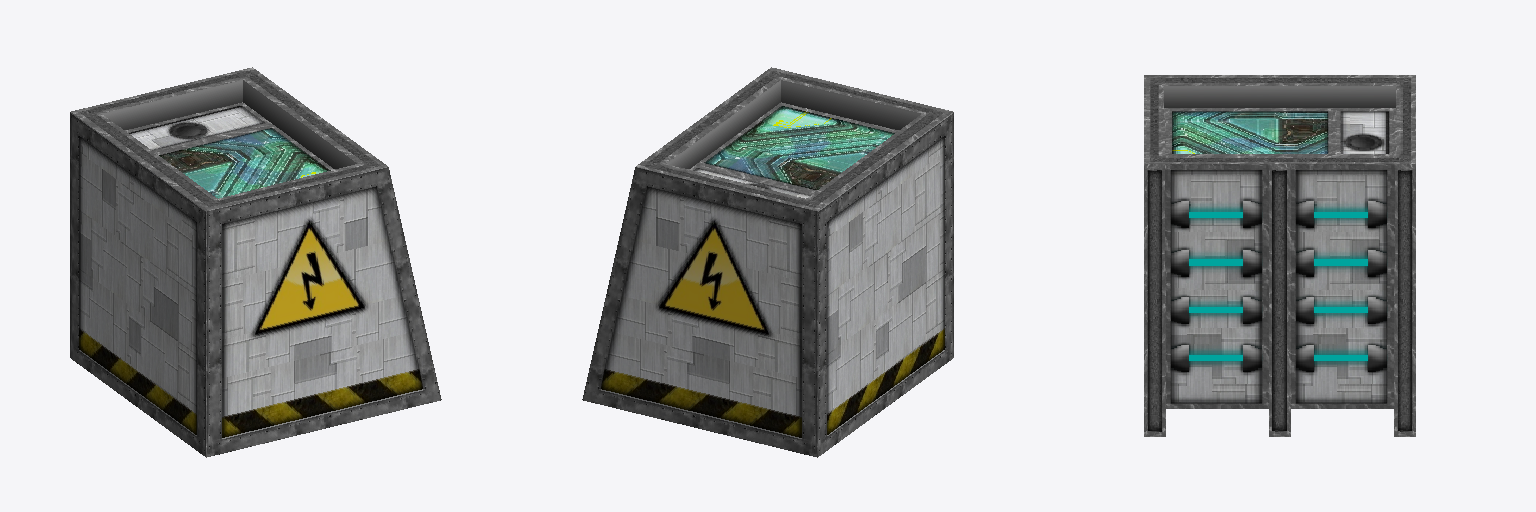
The picture shows the model from 3 angles: view 1: azimuth 30°, elevation 25°; view 2: azimuth 150°, elevation 25°; view 3: azimuth 270°, elevation 25°; orthographic projection.
Parts seen in each view (by area): view 1: Cube; view 2: Cube; view 3: Cube.
Boxes of the visible parts, x1,y1,x2,y2 form: Cube: [70, 67, 441, 457]; Cube: [582, 67, 953, 457]; Cube: [1144, 75, 1415, 436].
Bounding box in the file's own units: 2 × 2 × 2.
1 materials, 1 textured.